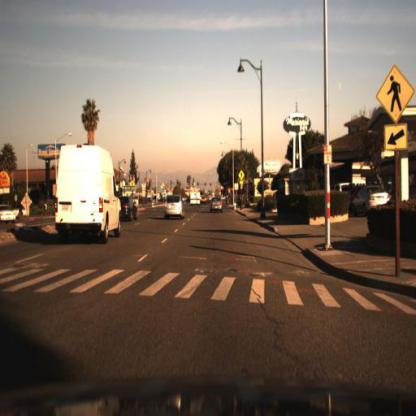car: (53, 143, 125, 251), (347, 185, 391, 221), (164, 191, 187, 220), (121, 195, 142, 222), (207, 194, 225, 217), (189, 191, 205, 212), (188, 193, 199, 212)
pedestrian: (41, 201, 50, 224)
truck: (50, 137, 125, 251), (188, 186, 202, 211)
